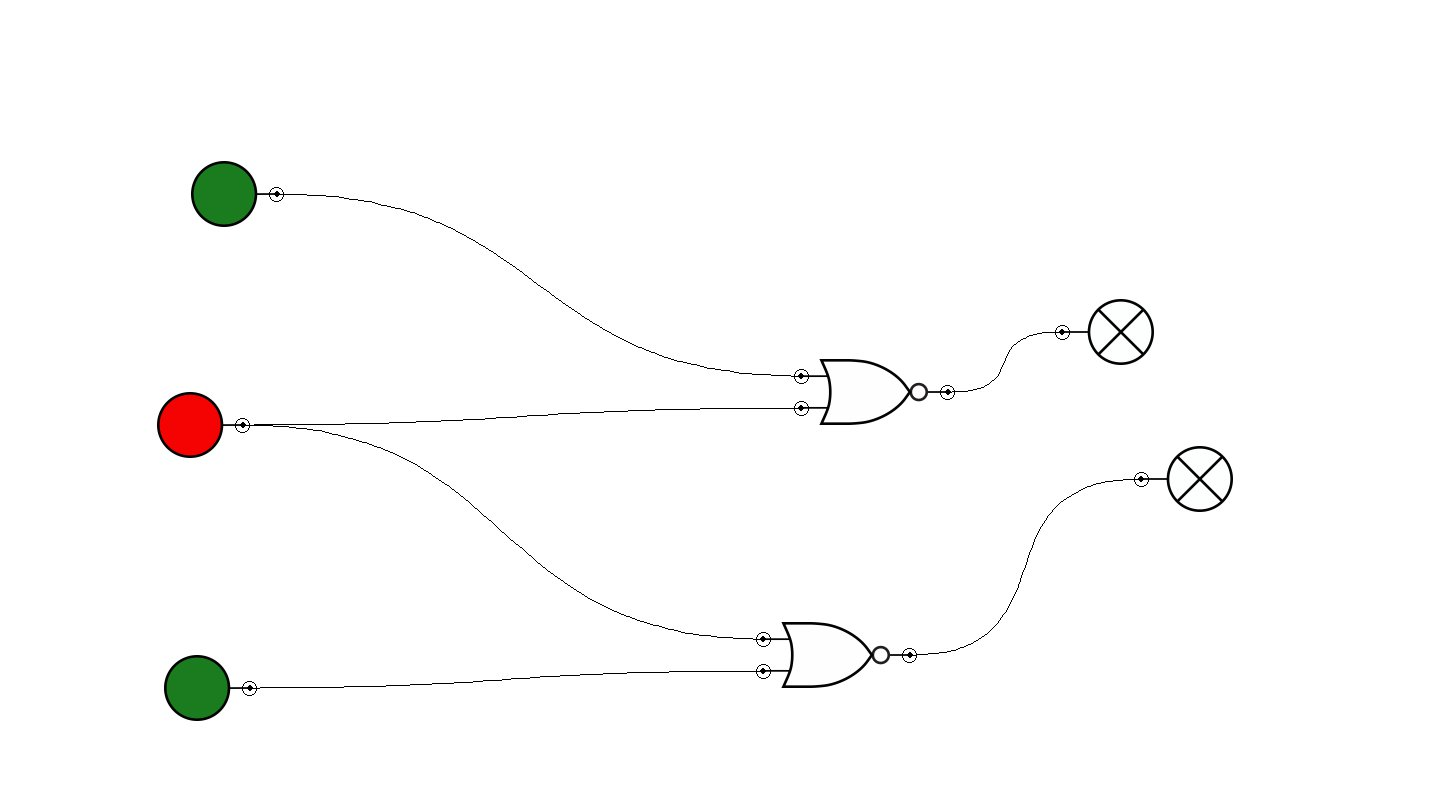bulb: (1134, 446, 1233, 512), (1055, 299, 1154, 365)
nor: (756, 622, 917, 688), (794, 359, 955, 425)
switch_False: (157, 392, 250, 458)
switch_True: (191, 161, 284, 227), (164, 655, 257, 721)
